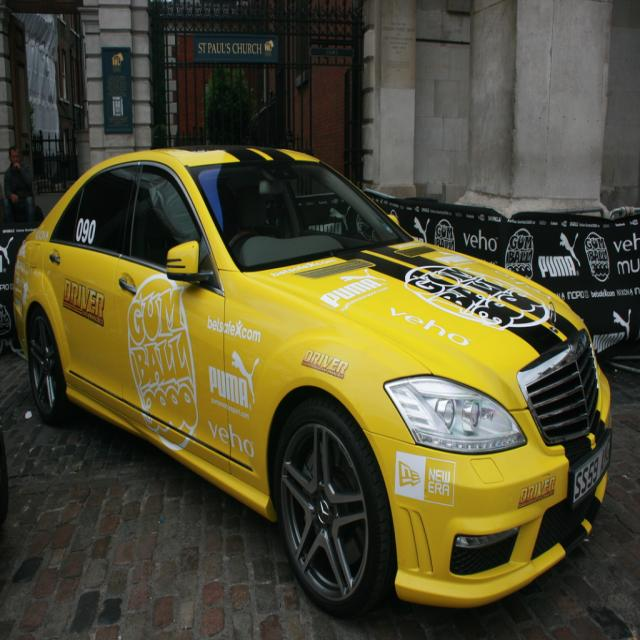car: (27, 143, 599, 629)
